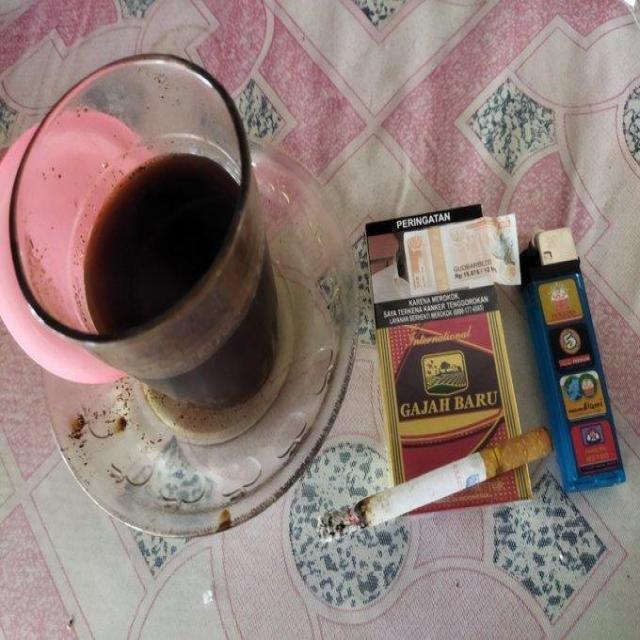rokok: (314, 428, 556, 544)
